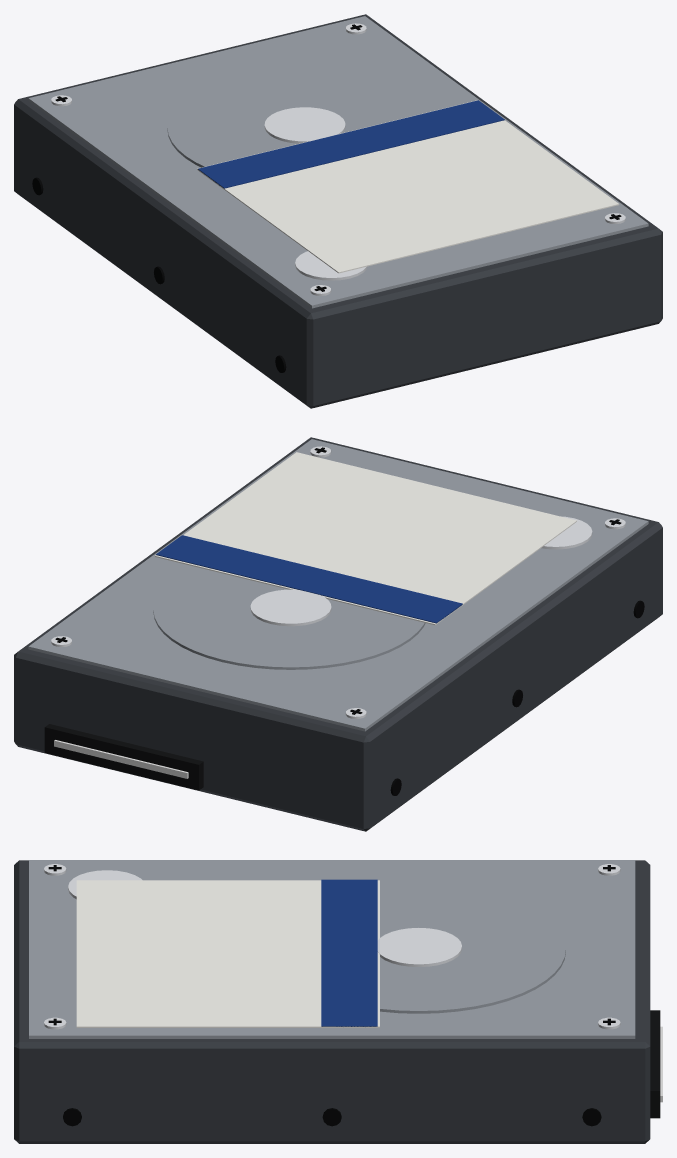
Rendered from hw_sto_hdd_500gb.glb.
3 renders of one model, top to bottom at view 1: azimuth 30°, elevation 25°; view 2: azimuth 150°, elevation 25°; view 3: azimuth 270°, elevation 25°, orthographic. The views are drawn at different scales.
Parts seen in each view (by area): view 1: Body; view 2: Body; view 3: Body.
Boxes of the visible parts, x1,y1,x2,y2 form: Body: (14, 14, 662, 408); Body: (14, 437, 662, 831); Body: (14, 860, 662, 1143).
Size of the model in its own units: 0.1028 by 0.0284 by 0.1499.
